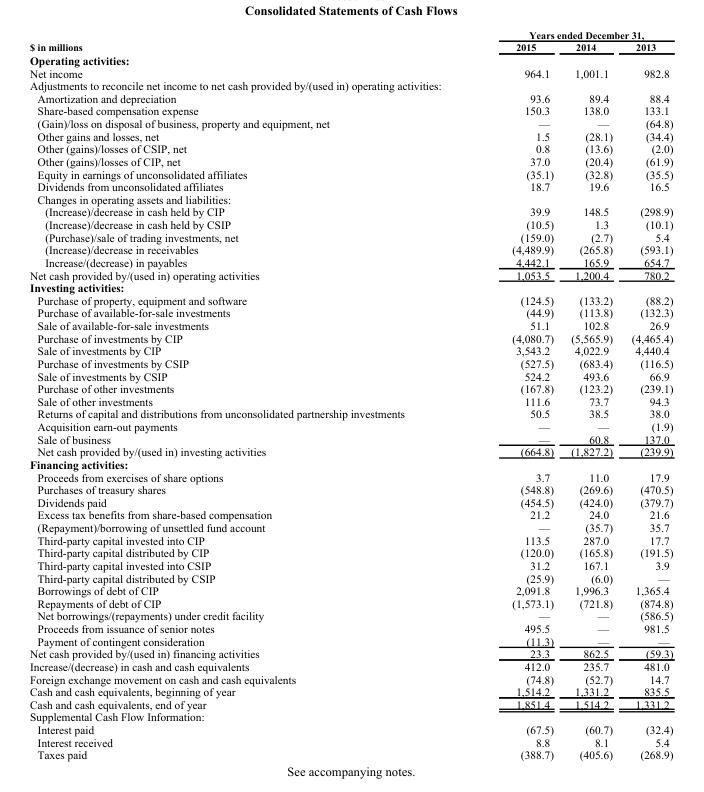table: (29, 28, 672, 760)
table column: (29, 28, 457, 760), (457, 28, 561, 760), (561, 28, 621, 760), (621, 28, 672, 760)
table column header: (29, 28, 672, 53)
table projected row header: (29, 53, 672, 66), (29, 192, 672, 205), (29, 280, 672, 293), (29, 457, 672, 470), (29, 79, 672, 91), (29, 710, 672, 722)
table row: (29, 40, 672, 53), (29, 53, 672, 66), (29, 66, 672, 79), (29, 91, 672, 104), (29, 116, 672, 129), (29, 129, 672, 142), (29, 154, 672, 167), (29, 167, 672, 180), (29, 192, 672, 205), (29, 217, 672, 230), (29, 230, 672, 243), (29, 255, 672, 268), (29, 280, 672, 293), (29, 293, 672, 306), (29, 318, 672, 331), (29, 331, 672, 344), (29, 356, 672, 369), (29, 369, 672, 382), (29, 394, 672, 407), (29, 419, 672, 432), (29, 432, 672, 445), (29, 457, 672, 470), (29, 470, 672, 483), (29, 495, 672, 508), (29, 520, 672, 533), (29, 533, 672, 546), (29, 558, 672, 571), (29, 571, 672, 584), (29, 596, 672, 609), (29, 621, 672, 634), (29, 634, 672, 647), (29, 659, 672, 672), (29, 672, 672, 685), (29, 697, 672, 710), (29, 722, 672, 735), (29, 735, 672, 748), (29, 28, 672, 40), (29, 79, 672, 91), (29, 104, 672, 116), (29, 142, 672, 154), (29, 180, 672, 192), (29, 205, 672, 217), (29, 243, 672, 255), (29, 268, 672, 280), (29, 306, 672, 318), (29, 344, 672, 356), (29, 382, 672, 394), (29, 407, 672, 419), (29, 445, 672, 457), (29, 483, 672, 495), (29, 508, 672, 520), (29, 546, 672, 558), (29, 584, 672, 596), (29, 609, 672, 621), (29, 647, 672, 659), (29, 685, 672, 697), (29, 710, 672, 722), (29, 748, 672, 760)
table spanning cell: (29, 28, 457, 53), (457, 28, 672, 40)
